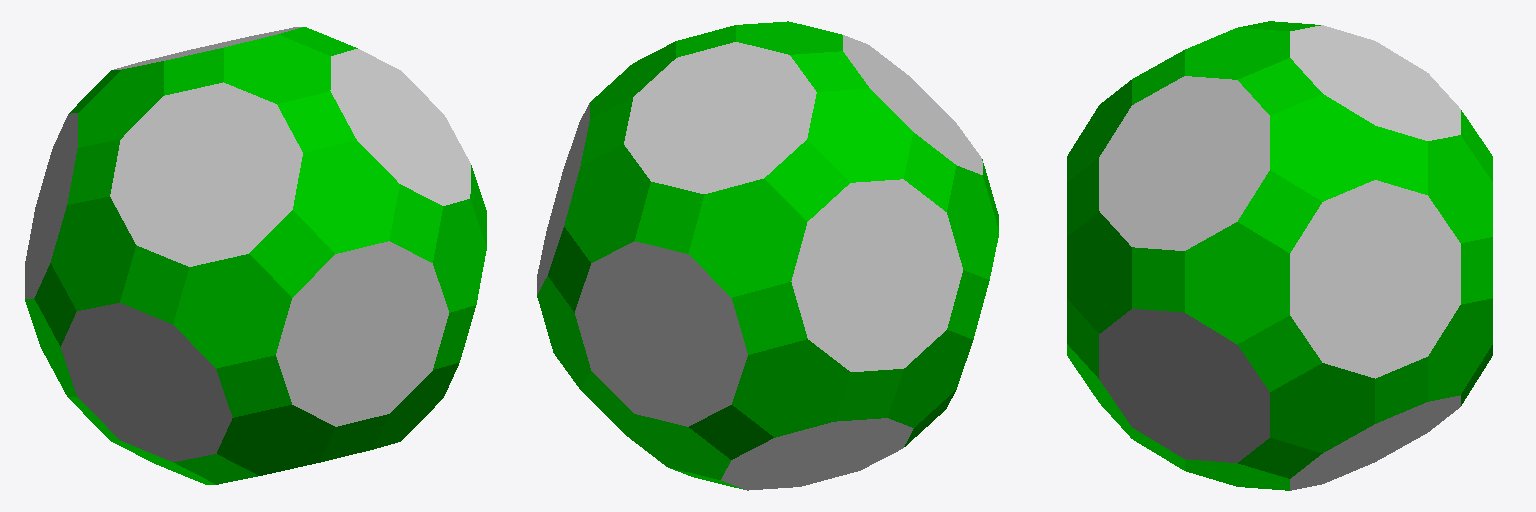
File: s11enemy.obj
The picture shows the model from 3 angles: view 1: azimuth 30°, elevation 25°; view 2: azimuth 150°, elevation 25°; view 3: azimuth 270°, elevation 25°; orthographic projection.
Size of the model in its own units: 1.97 by 1.98 by 1.81.